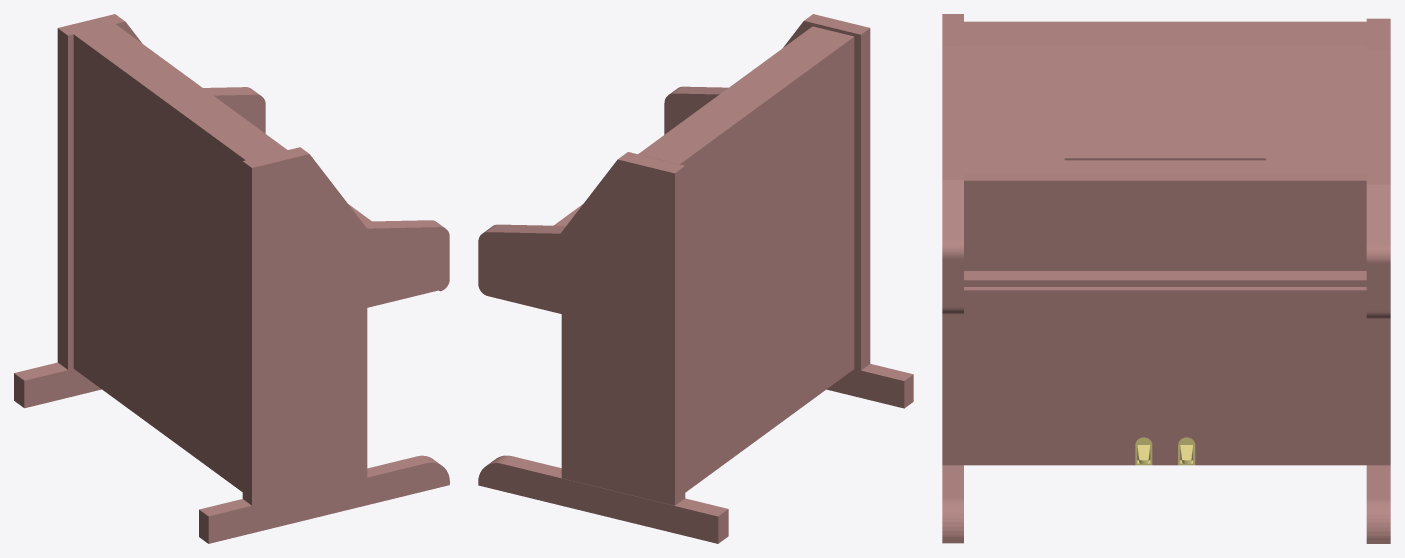
The model's file is Celesta.glb.
3 renders of one model, left to right at view 1: azimuth 30°, elevation 25°; view 2: azimuth 150°, elevation 25°; view 3: azimuth 270°, elevation 25°, orthographic. The views are drawn at different scales.
Visible parts, largest first — view 1: imagetostl_mesh304, imagetostl_mesh29, imagetostl_mesh229, imagetostl_mesh46, imagetostl_mesh2, imagetostl_mesh59, imagetostl_mesh1, imagetostl_mesh125, imagetostl_mesh134, imagetostl_mesh133, imagetostl_mesh55, imagetostl_mesh0 (+2 smaller); view 2: imagetostl_mesh304, imagetostl_mesh131, imagetostl_mesh229, imagetostl_mesh137, imagetostl_mesh130, imagetostl_mesh59, imagetostl_mesh1, imagetostl_mesh31, imagetostl_mesh99, imagetostl_mesh318, imagetostl_mesh138, imagetostl_mesh48 (+3 smaller); view 3: imagetostl_mesh171, imagetostl_mesh230, imagetostl_mesh315, imagetostl_mesh316, imagetostl_mesh229, imagetostl_mesh52, imagetostl_mesh53, imagetostl_mesh135, imagetostl_mesh97, imagetostl_mesh49, imagetostl_mesh100, imagetostl_mesh50 (+12 smaller).
Boxes of the visible parts, bbox=[...] form: imagetostl_mesh304: bbox=[73, 34, 245, 491]; imagetostl_mesh29: bbox=[252, 154, 367, 505]; imagetostl_mesh229: bbox=[74, 24, 287, 160]; imagetostl_mesh46: bbox=[208, 462, 449, 543]; imagetostl_mesh2: bbox=[367, 227, 449, 307]; imagetostl_mesh59: bbox=[57, 28, 67, 369]; imagetostl_mesh1: bbox=[242, 161, 251, 505]; imagetostl_mesh125: bbox=[68, 34, 73, 369]; imagetostl_mesh134: bbox=[24, 369, 101, 408]; imagetostl_mesh133: bbox=[214, 94, 265, 133]; imagetostl_mesh55: bbox=[58, 14, 124, 35]; imagetostl_mesh0: bbox=[243, 147, 308, 167]; imagetostl_mesh304: bbox=[680, 37, 854, 492]; imagetostl_mesh131: bbox=[560, 159, 674, 505]; imagetostl_mesh229: bbox=[638, 26, 853, 164]; imagetostl_mesh137: bbox=[478, 463, 718, 543]; imagetostl_mesh130: bbox=[478, 232, 560, 313]; imagetostl_mesh59: bbox=[675, 166, 685, 505]; imagetostl_mesh1: bbox=[861, 28, 870, 370]; imagetostl_mesh31: bbox=[826, 369, 904, 408]; imagetostl_mesh99: bbox=[854, 121, 860, 370]; imagetostl_mesh318: bbox=[664, 93, 719, 134]; imagetostl_mesh138: bbox=[502, 456, 727, 516]; imagetostl_mesh48: bbox=[783, 21, 860, 122]; imagetostl_mesh171: bbox=[964, 311, 1366, 465]; imagetostl_mesh230: bbox=[964, 45, 1366, 173]; imagetostl_mesh315: bbox=[964, 181, 1366, 231]; imagetostl_mesh316: bbox=[964, 226, 1366, 270]; imagetostl_mesh229: bbox=[964, 21, 1366, 44]; imagetostl_mesh52: bbox=[964, 290, 1366, 311]; imagetostl_mesh53: bbox=[964, 271, 1366, 280]; imagetostl_mesh135: bbox=[1366, 319, 1390, 465]; imagetostl_mesh97: bbox=[1366, 50, 1390, 184]; imagetostl_mesh49: bbox=[942, 314, 963, 465]; imagetostl_mesh100: bbox=[964, 173, 1366, 180]; imagetostl_mesh50: bbox=[942, 46, 963, 179].
Size of the model in its own units: 29.48 by 42.45 by 41.18.
